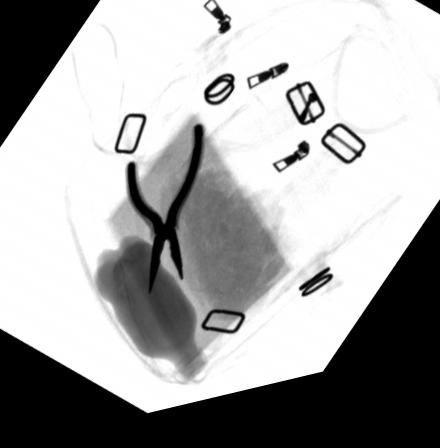Pliers: (123, 131, 205, 304)
